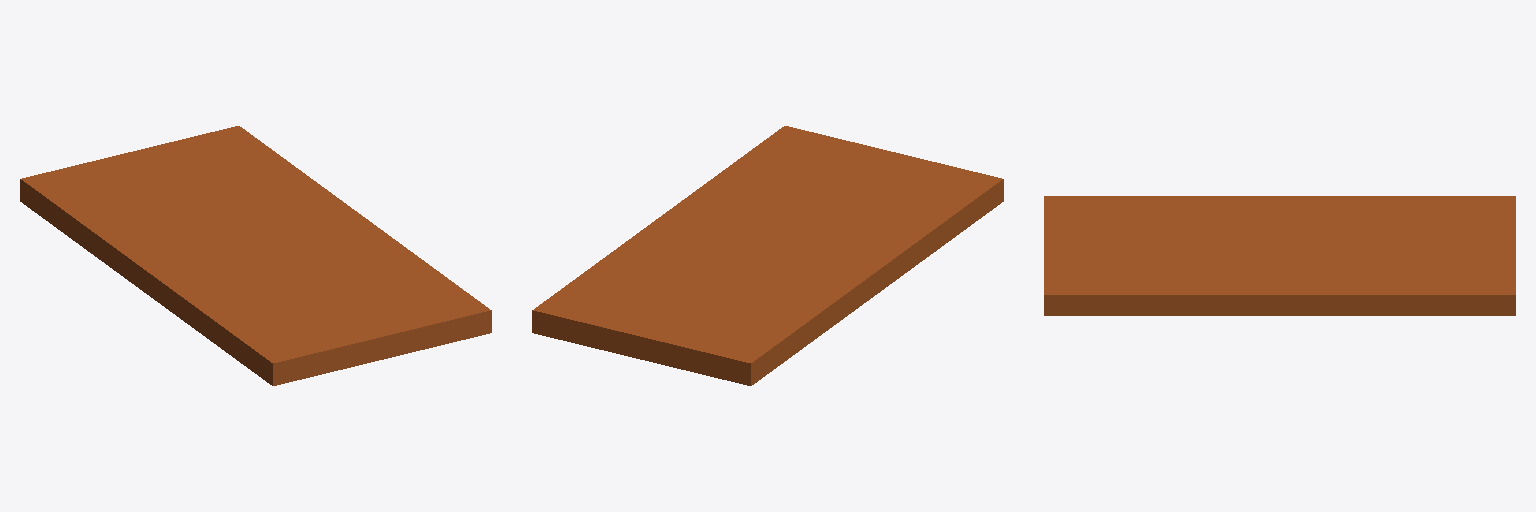
robot.urdf — table:
<?xml version="1.0"?>
<robot name="table">
  <link name="world"/> <!-- Dummy world link for validation -->

  <link name="table_link">
    <visual>
      <geometry>
        <box size="1.0 2.0 0.1"/> <!-- Table dimensions -->
      </geometry>
      <material name="brown">
        <color rgba="0.7 0.4 0.2 1.0"/> <!-- Brownish color -->
      </material>
    </visual>
    <collision>
      <geometry>
        <box size="1.0 2.0 0.1"/>
      </geometry>
    </collision>
    <inertial>
      <mass value="10.0"/>
      <origin xyz="0 0 0"/>
      <inertia ixx="0.1" ixy="0" ixz="0" iyy="0.1" iyz="0" izz="0.1"/>
    </inertial>
  </link>

  <joint name="fixed_to_world" type="fixed">
    <parent link="world"/>
    <child link="table_link"/>
    <origin xyz="0.7 0 0.2"/> <!-- Table position -->
  </joint>
</robot>

--- What the picture shows (computed from the rendered views, not written in the file) ---
Views: 3 orthographic renders of the robot side by side, from view 1: azimuth 30°, elevation 25°; view 2: azimuth 150°, elevation 25°; view 3: azimuth 270°, elevation 25°.
Model table with 2 links and 1 joints (1 fixed), rooted at world, posed all joints at 0.
Visible links, largest first — view 1: table_link; view 2: table_link; view 3: table_link.
Boxes of the visible links, x1,y1,x2,y2 form: table_link: (20,126,491,385); table_link: (532,126,1003,385); table_link: (1044,196,1515,315).
Size in the robot's own frame: 1 by 2 by 0.1 metres.
Geometry: primitives only (box / cylinder / sphere), no mesh files.
